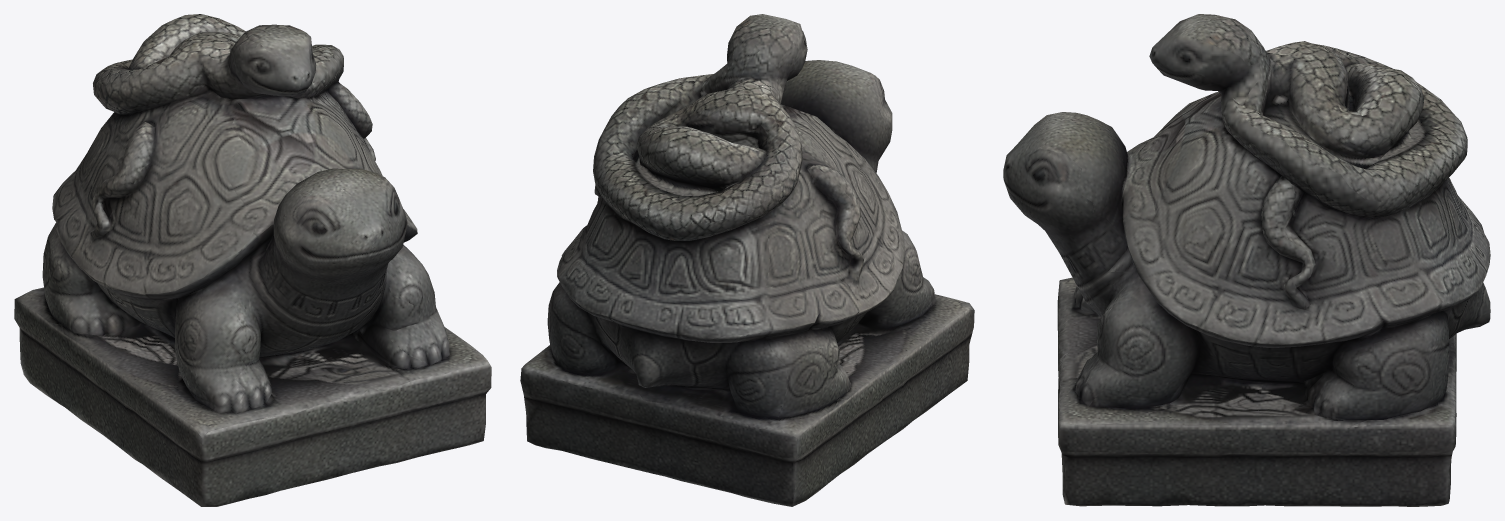
The model's file is 경복궁_석상_현무.glb.
3 renders of one model, left to right at view 1: azimuth 30°, elevation 25°; view 2: azimuth 150°, elevation 25°; view 3: azimuth 270°, elevation 25°, orthographic. The views are drawn at different scales.
Parts seen in each view (by area): view 1: texture_mapping; view 2: texture_mapping; view 3: texture_mapping.
Boxes of the visible parts, left/top/right/bottom form: texture_mapping: left=14, top=14, right=491, bottom=506; texture_mapping: left=520, top=14, right=974, bottom=506; texture_mapping: left=1003, top=14, right=1490, bottom=506.
Size of the model in its own units: 0.7434 by 0.9367 by 0.994.
Materials: 1 (1 with a texture image).
